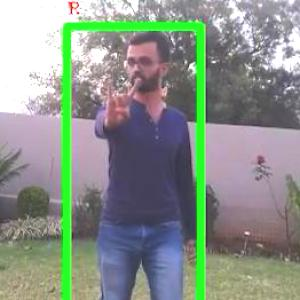takeoff-hand: (93, 73, 144, 131)
